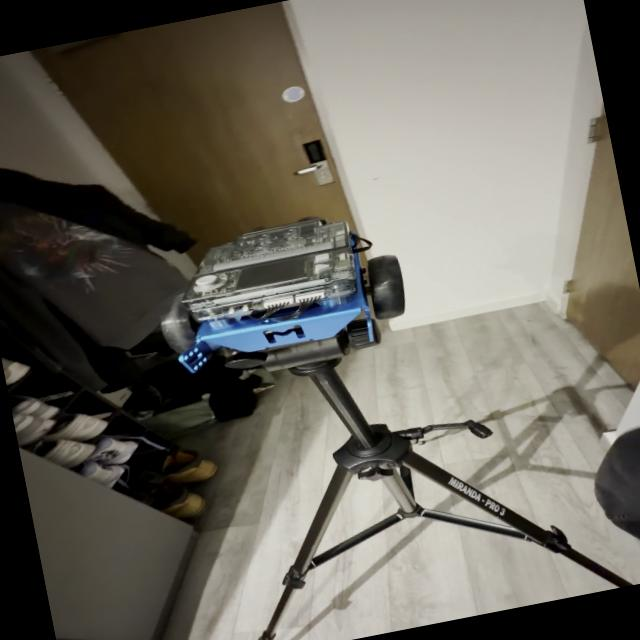mbot-detection: (138, 194, 421, 386)
